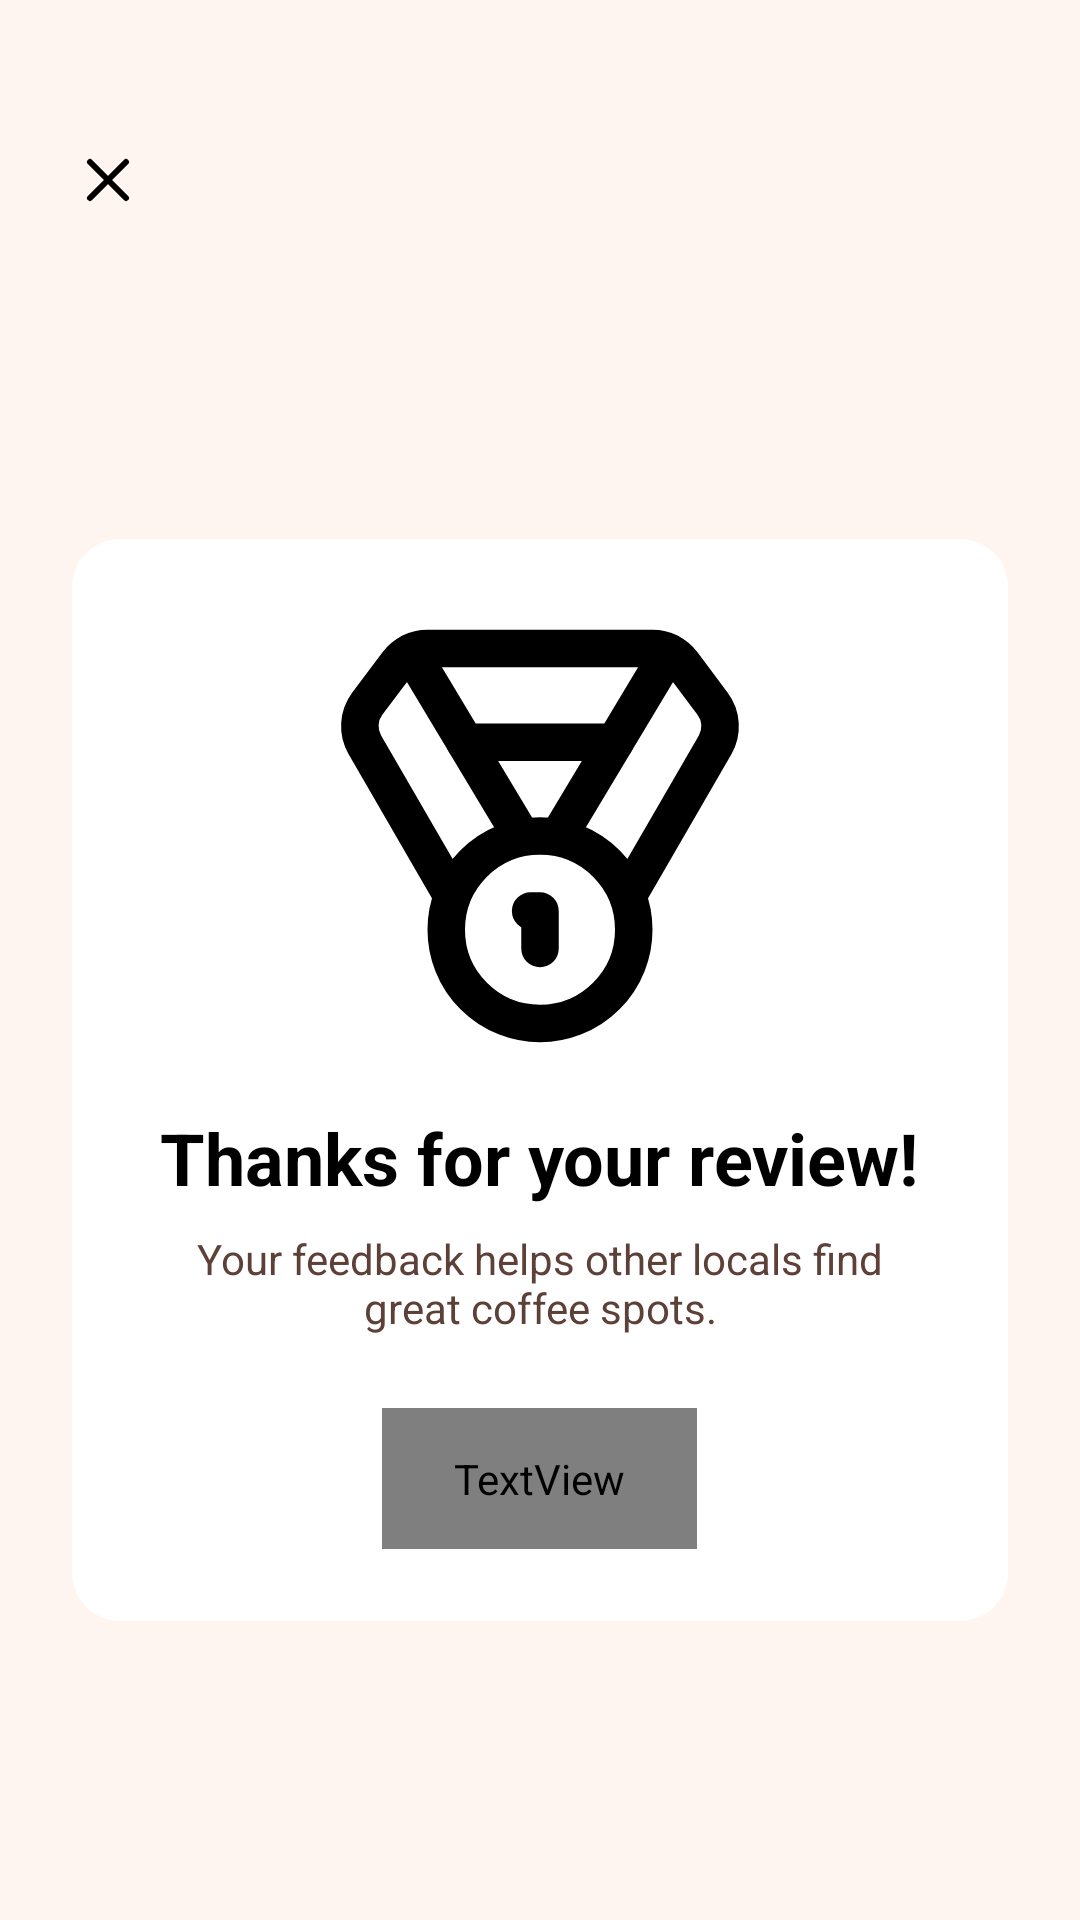

Named icons in this screenshot (1080*1920) and their centers, point (x, y):
Close: point (108, 179)
